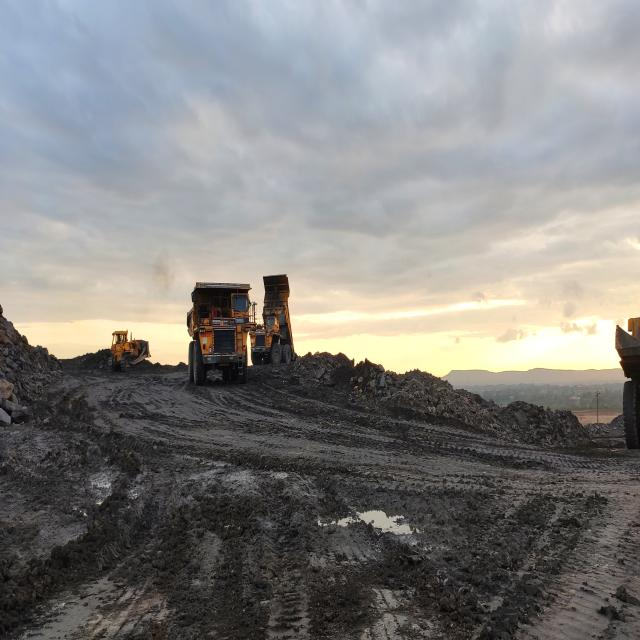buldozerpayloadergrader: (109, 331, 150, 369)
dump_truck: (186, 282, 256, 384), (251, 276, 295, 364)
